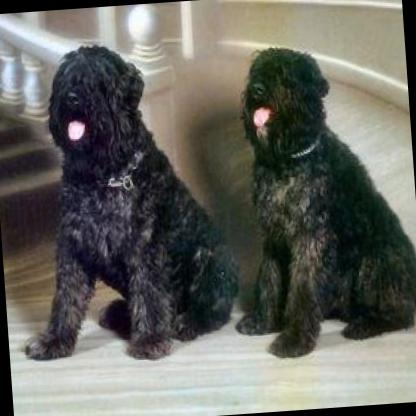Bouvier_des_Flandres: (1, 33, 240, 368), (213, 34, 416, 361)
